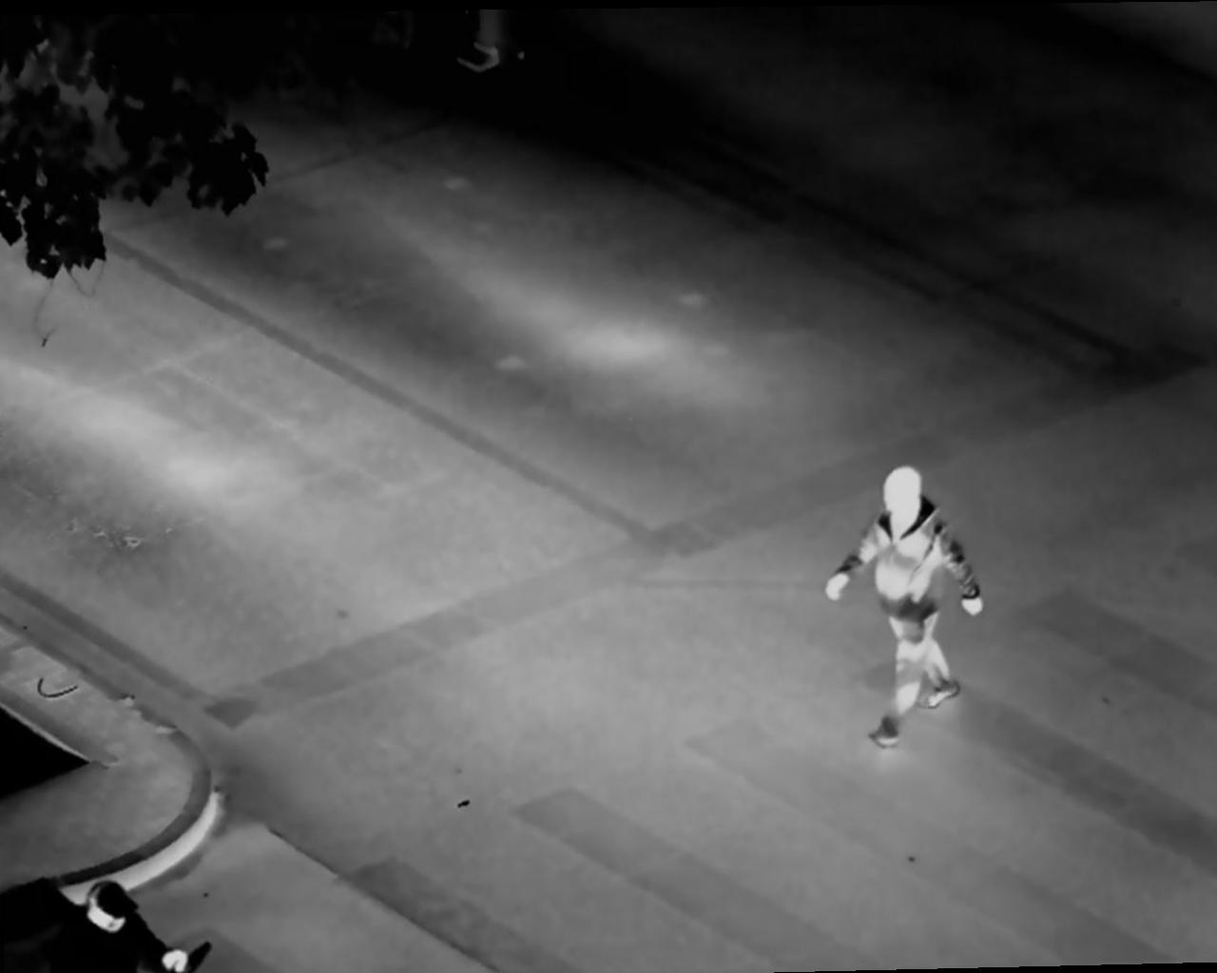person: (830, 463, 995, 759)
